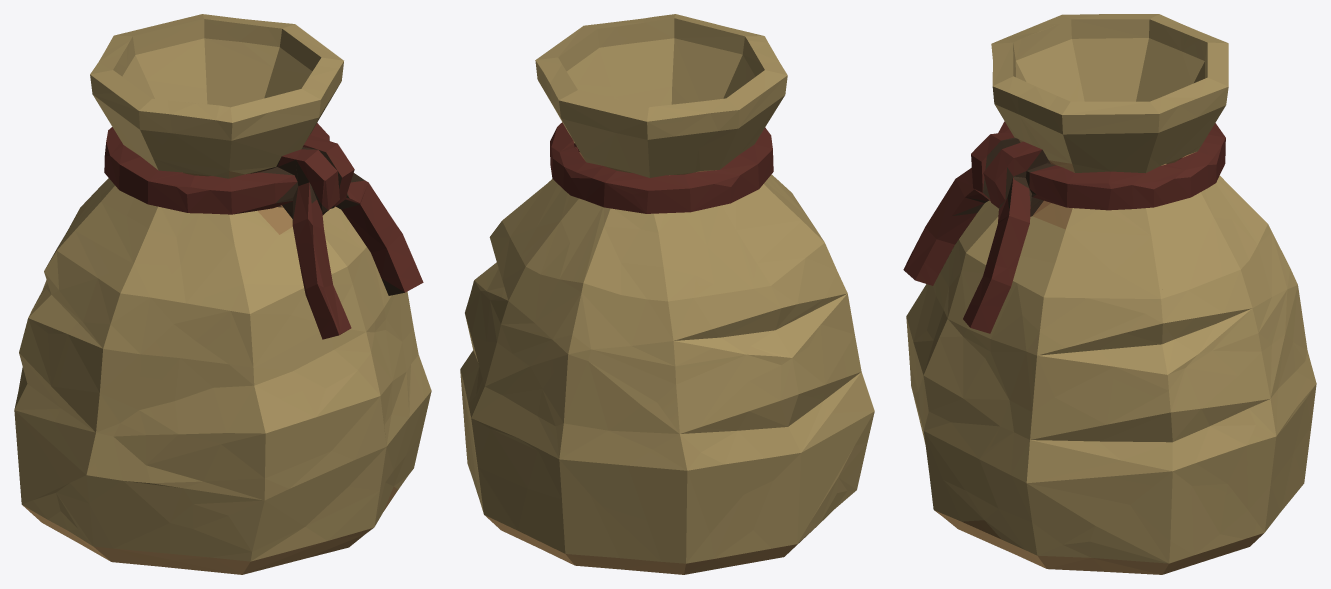
Rendered from mdvl_props_sack_01.glb.
3 renders of one model, left to right at view 1: azimuth 30°, elevation 25°; view 2: azimuth 150°, elevation 25°; view 3: azimuth 270°, elevation 25°, orthographic.
Visible parts, largest first — view 1: mdvl_props_sack_01; view 2: mdvl_props_sack_01; view 3: mdvl_props_sack_01.
Part boxes in pixels (x1=…): mdvl_props_sack_01: x1=14, y1=14, x2=431, y2=574; mdvl_props_sack_01: x1=460, y1=14, x2=874, y2=574; mdvl_props_sack_01: x1=903, y1=14, x2=1316, y2=574.
Size of the model in its own units: 0.5183 by 0.6359 by 0.5374.
Materials: 1 (1 with a texture image).
